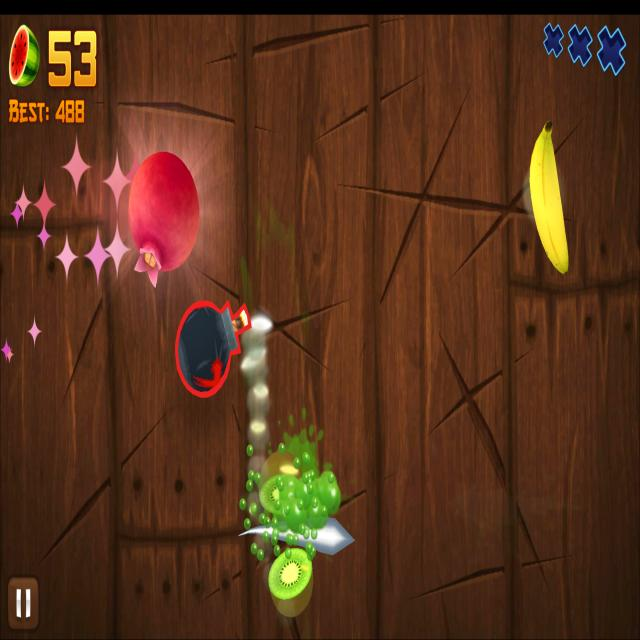bomb: (175, 296, 252, 401)
fruit: (128, 152, 200, 282), (530, 120, 570, 276)
